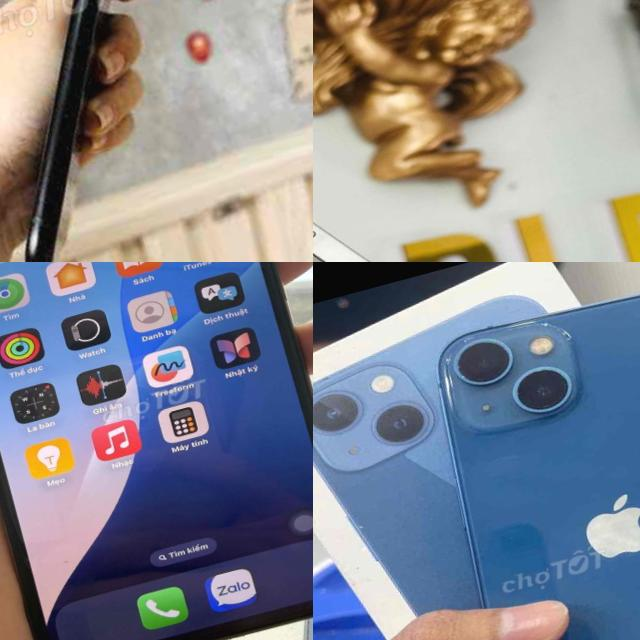gen_12_13: (397, 264, 640, 640), (313, 76, 548, 262)
gen_x_xs: (0, 262, 313, 640), (0, 0, 259, 262)
